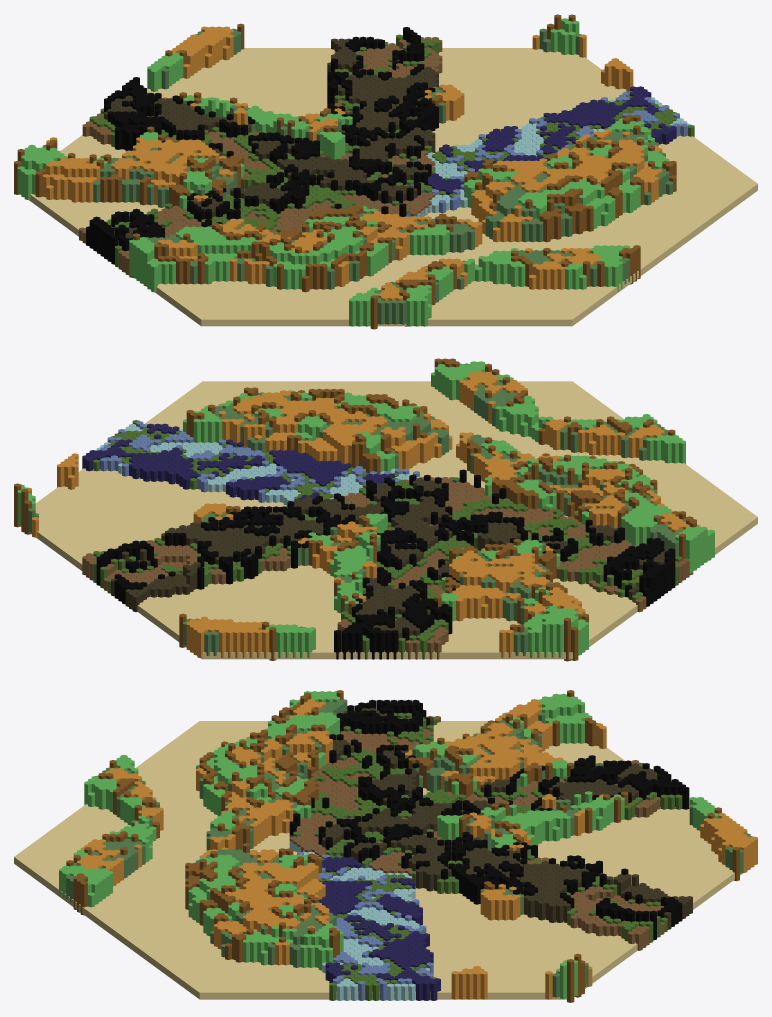
The model's file is 0021_tile_1211102.fbx.
The picture shows the model from 3 angles, top to bottom: view 1: azimuth 30°, elevation 25°; view 2: azimuth 150°, elevation 25°; view 3: azimuth 270°, elevation 25°; orthographic projection.
Parts seen in each view (by area): view 1: Plane; view 2: Plane; view 3: Plane.
Boxes of the visible parts, bbox=[...] form: Plane: bbox=[14, 14, 757, 329]; Plane: bbox=[14, 358, 757, 661]; Plane: bbox=[14, 690, 757, 1002].
Bounding box in the file's own units: 1008 × 69.15 × 1152.
